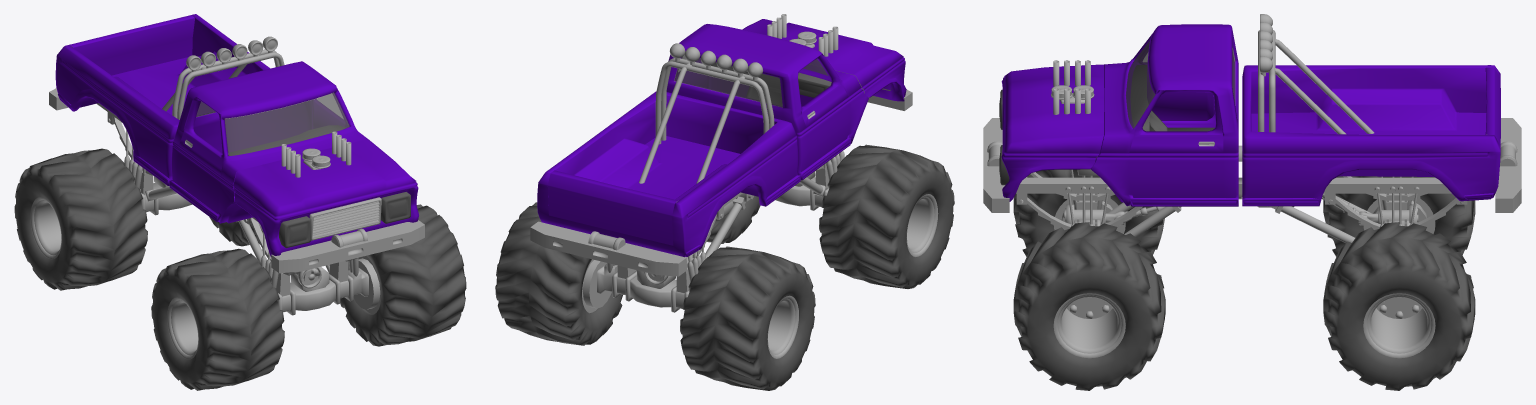
The model's file is Monster.fbx.
3 renders of one model, left to right at view 1: azimuth 30°, elevation 25°; view 2: azimuth 150°, elevation 25°; view 3: azimuth 270°, elevation 25°, orthographic. The views are drawn at different scales.
Parts seen in each view (by area): view 1: body, front_right_wheel, back_right_wheel, front_left_wheel, back_left_wheel; view 2: body, back_right_wheel, front_right_wheel, back_left_wheel, front_left_wheel; view 3: body, front_left_wheel, back_left_wheel, back_right_wheel, front_right_wheel.
Part boxes in pixels (box(x1,y1,x2,y2)): body: box(49, 14, 424, 315); front_right_wheel: box(151, 248, 284, 390); back_right_wheel: box(14, 148, 147, 290); front_left_wheel: box(340, 204, 466, 346); back_left_wheel: box(209, 217, 265, 246); body: box(530, 14, 912, 313); back_right_wheel: box(680, 246, 815, 390); front_right_wheel: box(819, 144, 954, 288); back_left_wheel: box(495, 202, 623, 345); front_left_wheel: box(706, 196, 760, 243); body: box(983, 14, 1521, 301); front_left_wheel: box(1013, 222, 1165, 390); back_left_wheel: box(1323, 222, 1475, 390); back_right_wheel: box(1323, 176, 1475, 256); front_right_wheel: box(1013, 169, 1164, 256).
Bounding box in the file's own units: 398 × 373 × 629.
